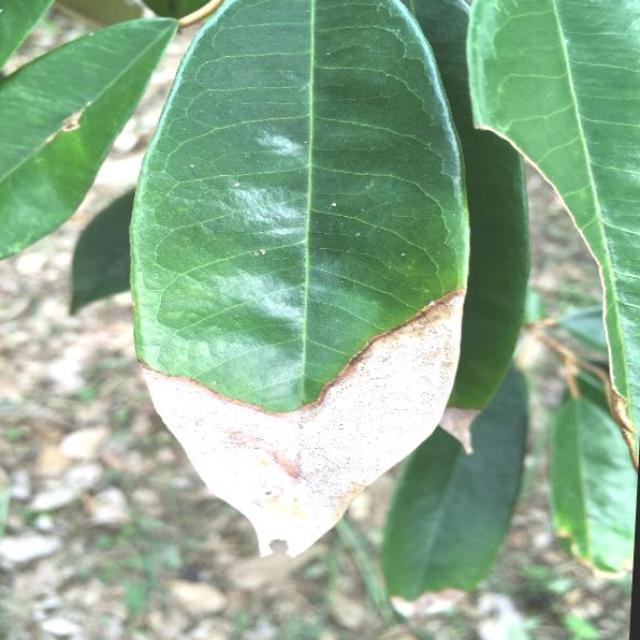Leaf Blight: (102, 0, 490, 585)
